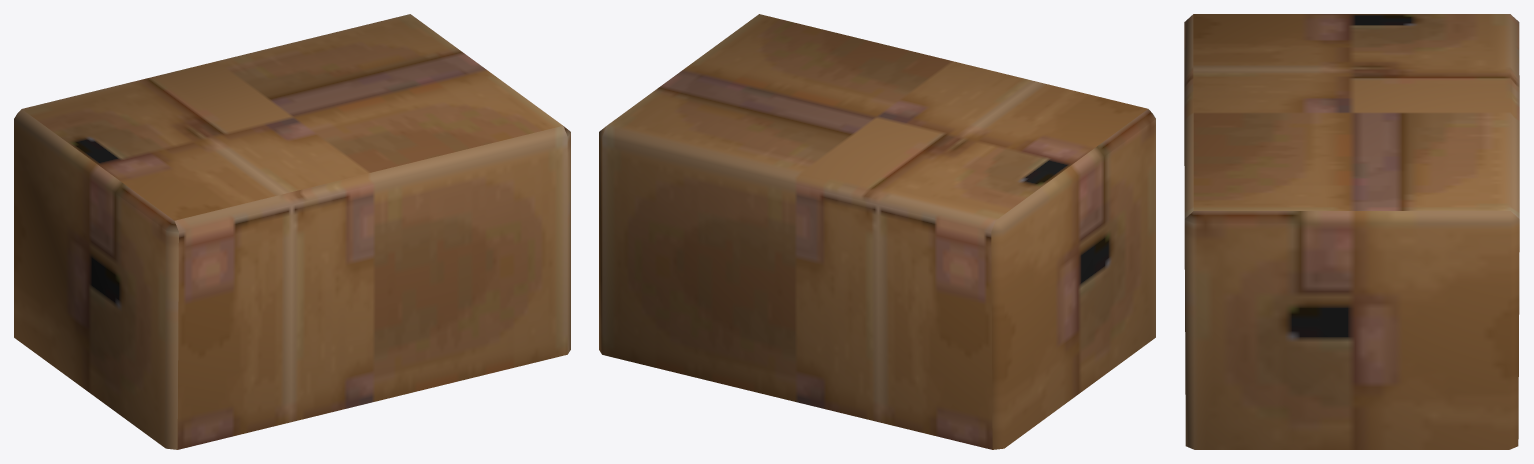
File: int_dmb_stool.dae
The picture shows the model from 3 angles, left to right: view 1: azimuth 30°, elevation 25°; view 2: azimuth 150°, elevation 25°; view 3: azimuth 270°, elevation 25°; orthographic projection. The views are drawn at different scales.
Parts seen in each view (by area): view 1: int_dmb_stool; view 2: int_dmb_stool; view 3: int_dmb_stool.
Boxes of the visible parts, x1,y1,x2,y2 form: int_dmb_stool: (14, 14, 570, 449); int_dmb_stool: (599, 14, 1155, 449); int_dmb_stool: (1184, 14, 1519, 449).
Bounding box in the file's own units: 29.94 × 15.98 × 20.68.
1 material, 1 textured.
